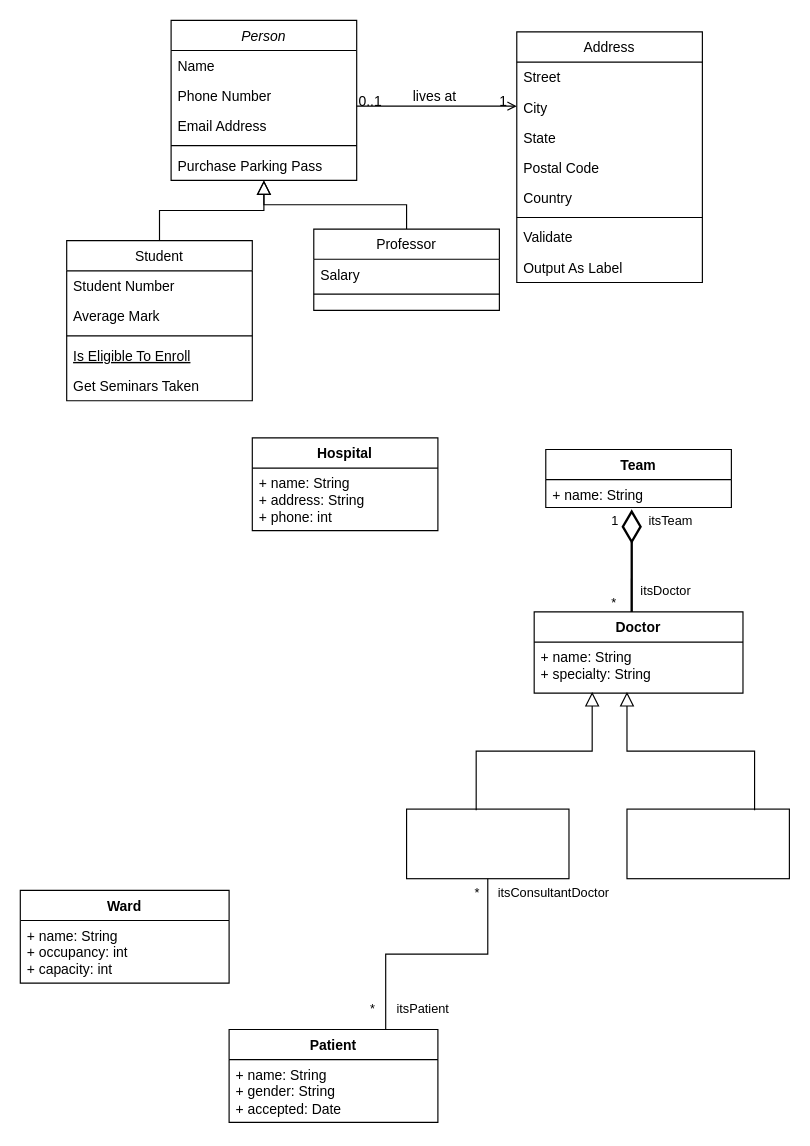
Some shapes in this 810 by 1146 pixel diagram are drawn without their labels. The shapes that lost their labels are listed below. From the top down, each one's centre as x and y in pixels, then its label:
At pixel 487 843: "ConsultantDoctor".
At pixel 707 843: "JuniorDoctor".
